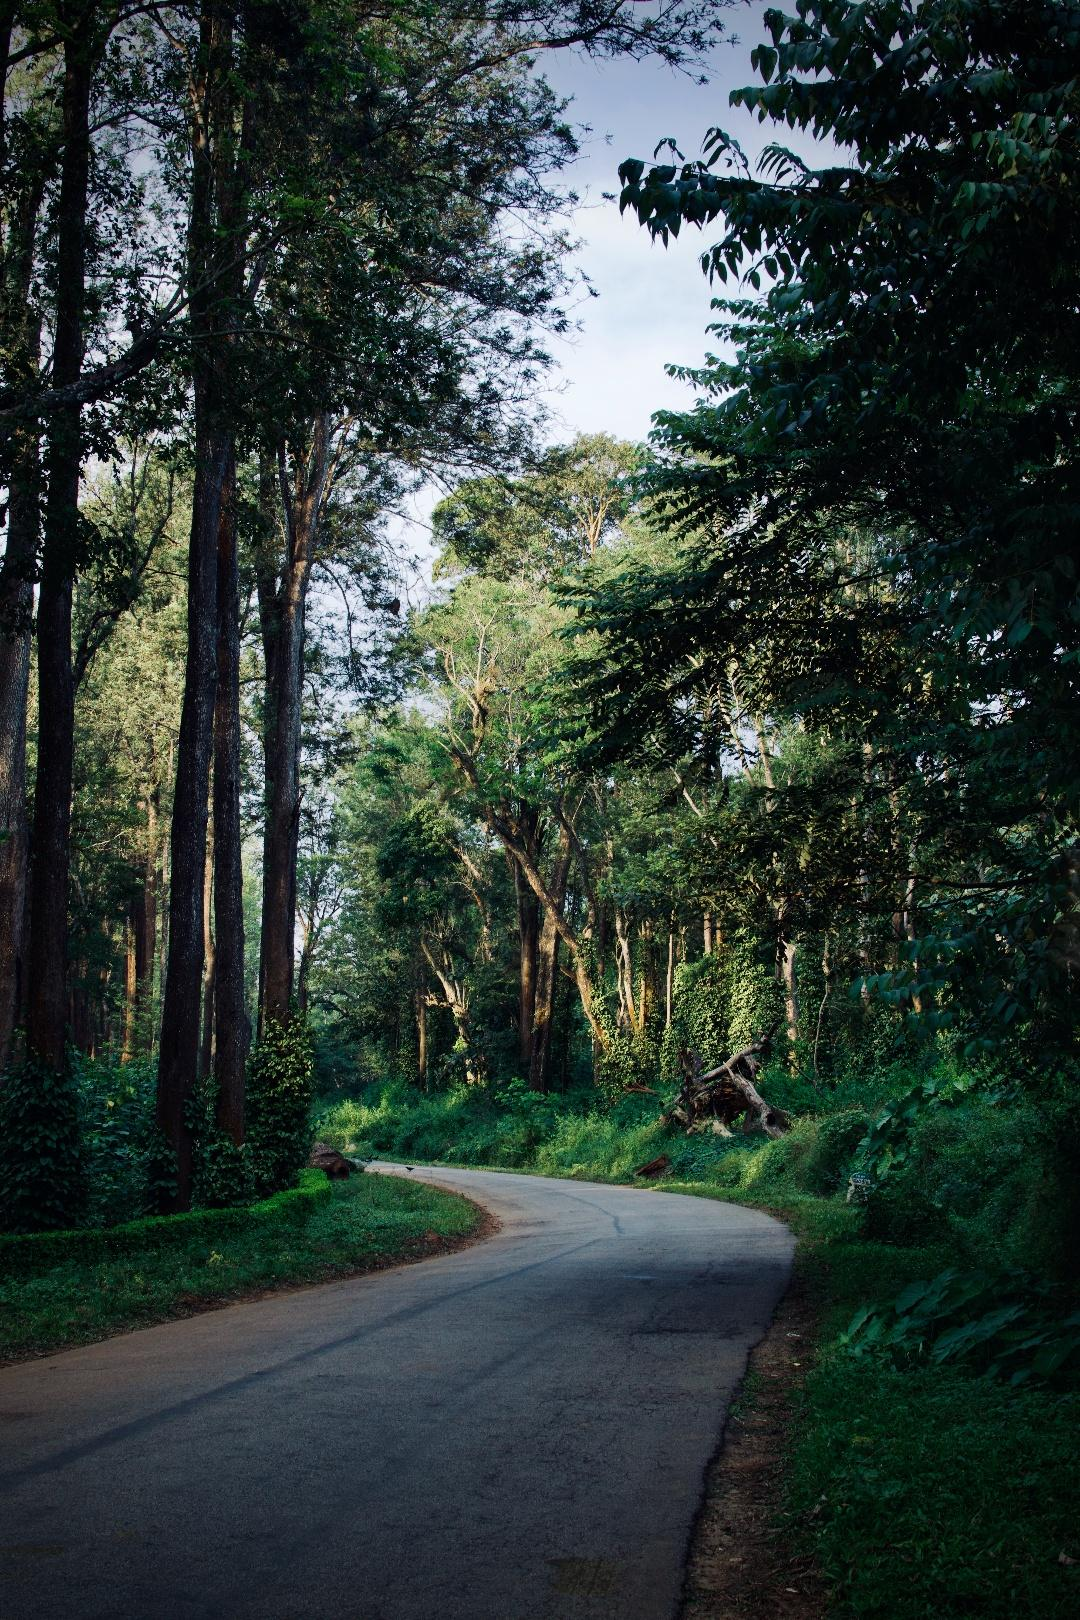biological: (1047, 849, 1080, 1008)
